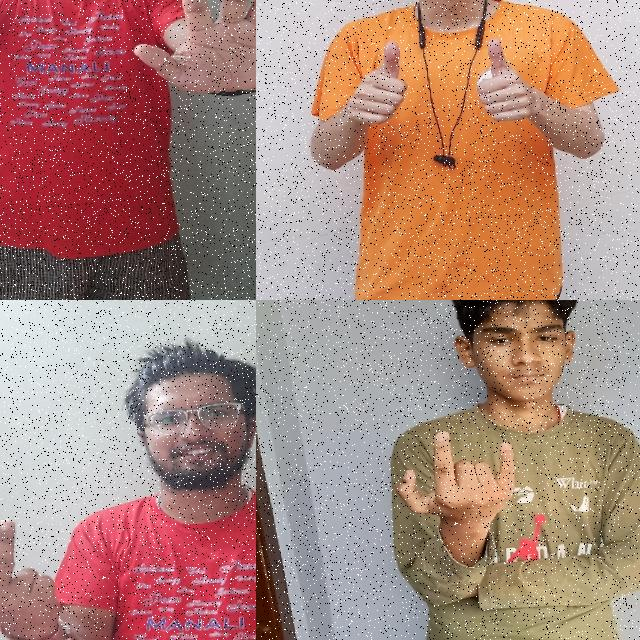Corna: (388, 416, 538, 546)
Middle Finger: (0, 507, 72, 640)
Moutza: (130, 0, 256, 116)
Thumbs Up: (339, 35, 416, 138), (469, 36, 538, 134)
